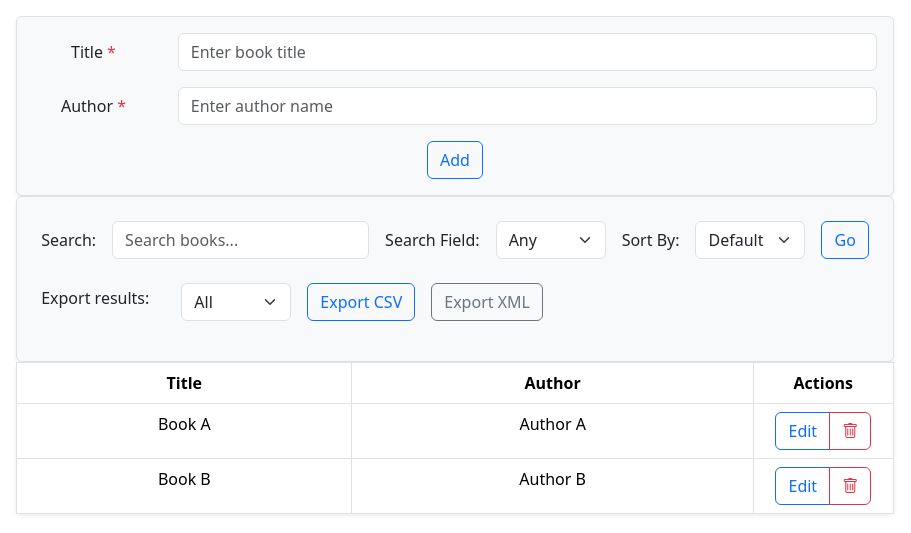
Test case: App › deletes a book
This screenshot has width=911, height=533.
Expected: the text "Book A" is shown, [17,404,352,458]
Click the button named "deleteButton" in the row of "Book A": (850, 431) [829,412,871,450]
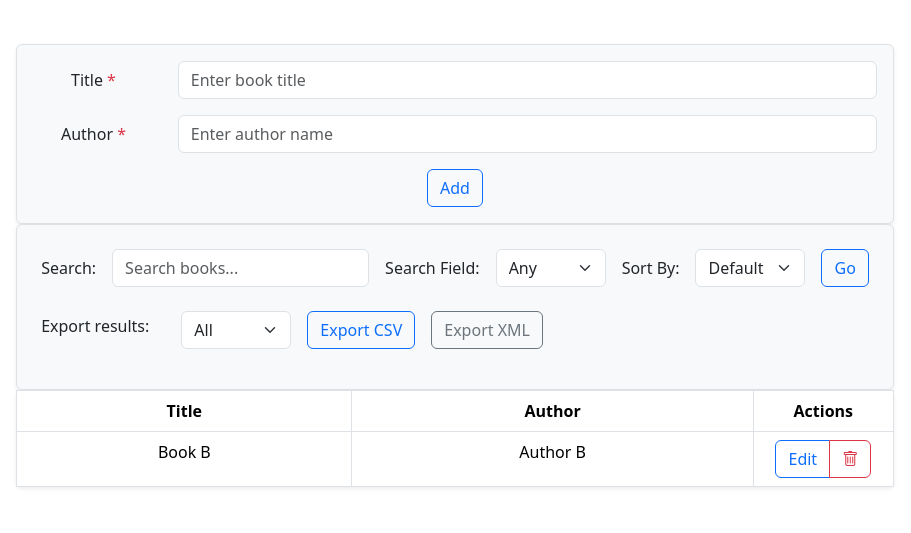
Expected: the text "Book B" is shown, [17,431,352,486]
Now the text "Book A" is gone
